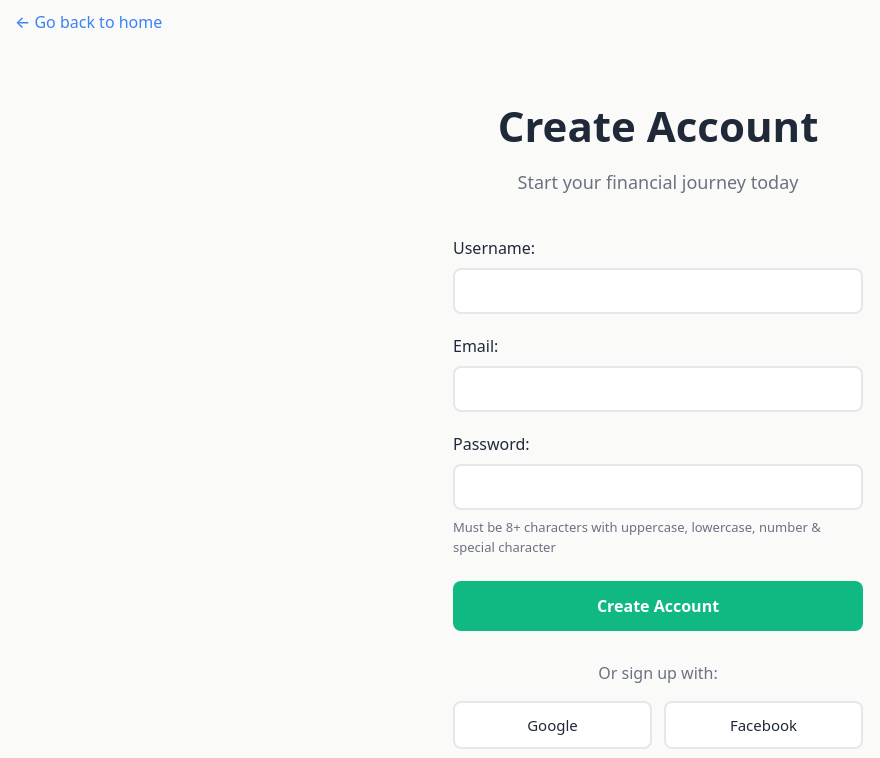
Test case: Register Page › shows error if password is too short
Type "test" into the field labelled "Username:". click: {"x": 658, "y": 291}
box: 453,268 -> 863,314
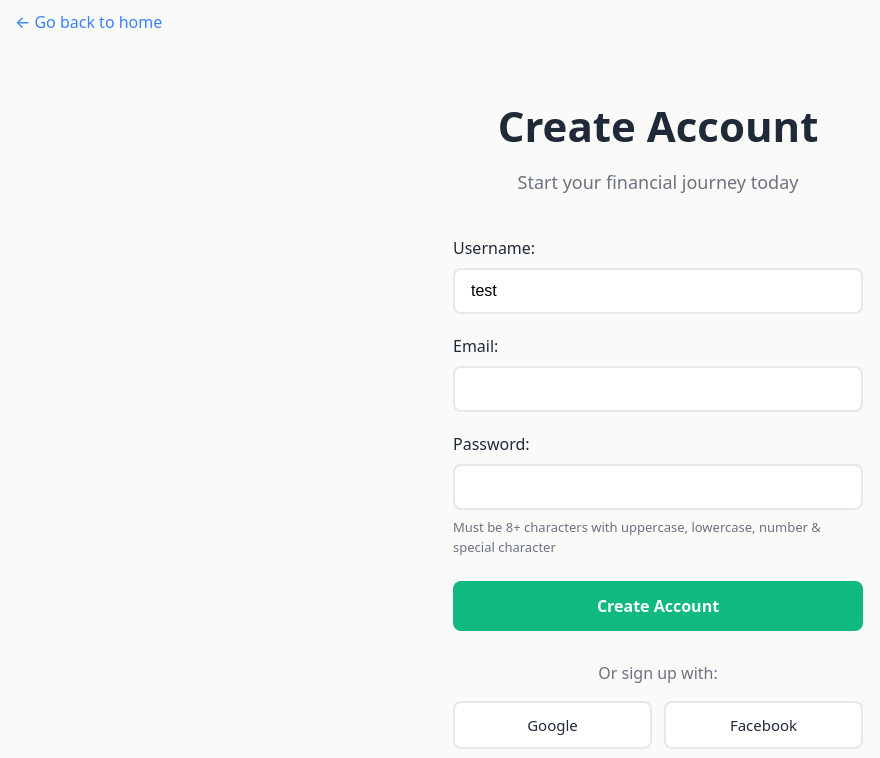
Type "test@example.com" into the field labelled "Email:". click: {"x": 658, "y": 389}
box: 453,366 -> 863,412
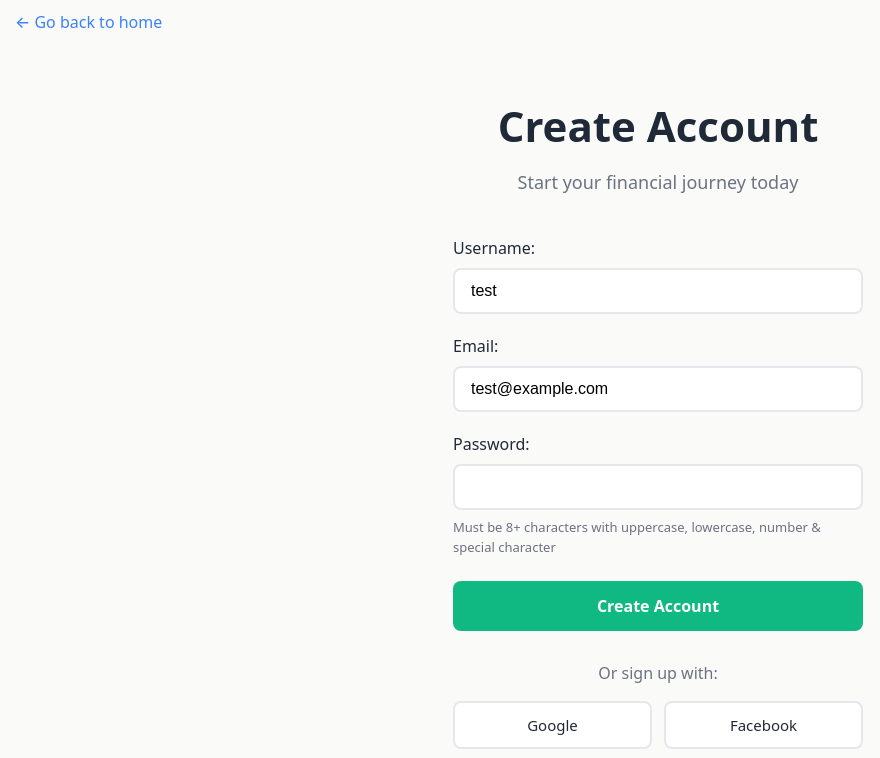
Type "123" into the password field labelled "Password:". click: {"x": 658, "y": 487}
box: 453,464 -> 863,510
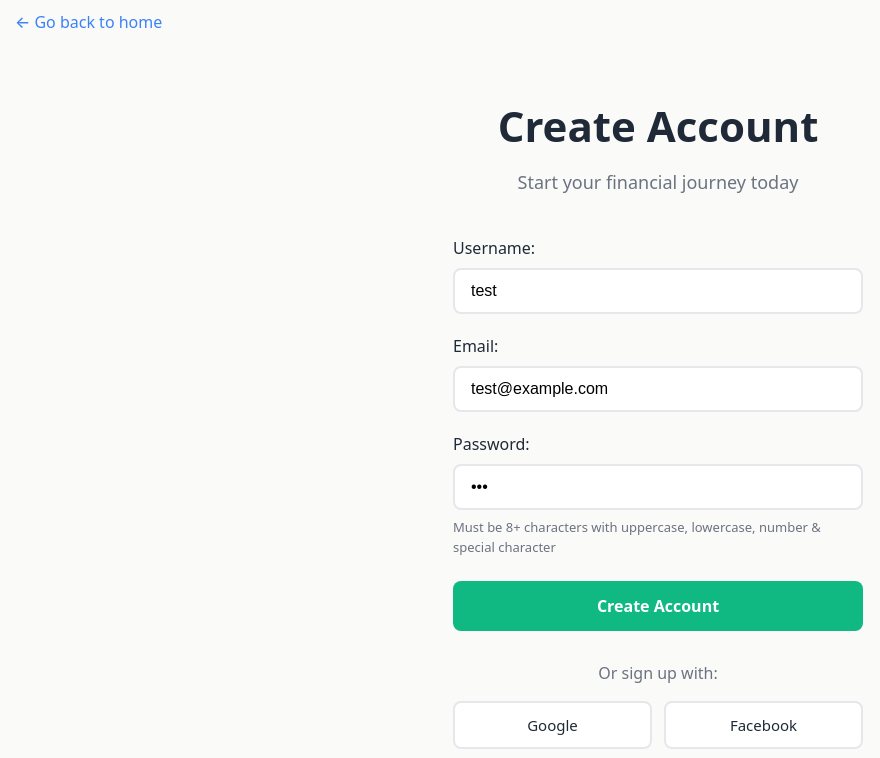
Click the button "Create Account". click: {"x": 658, "y": 606}
box: 453,581 -> 863,631
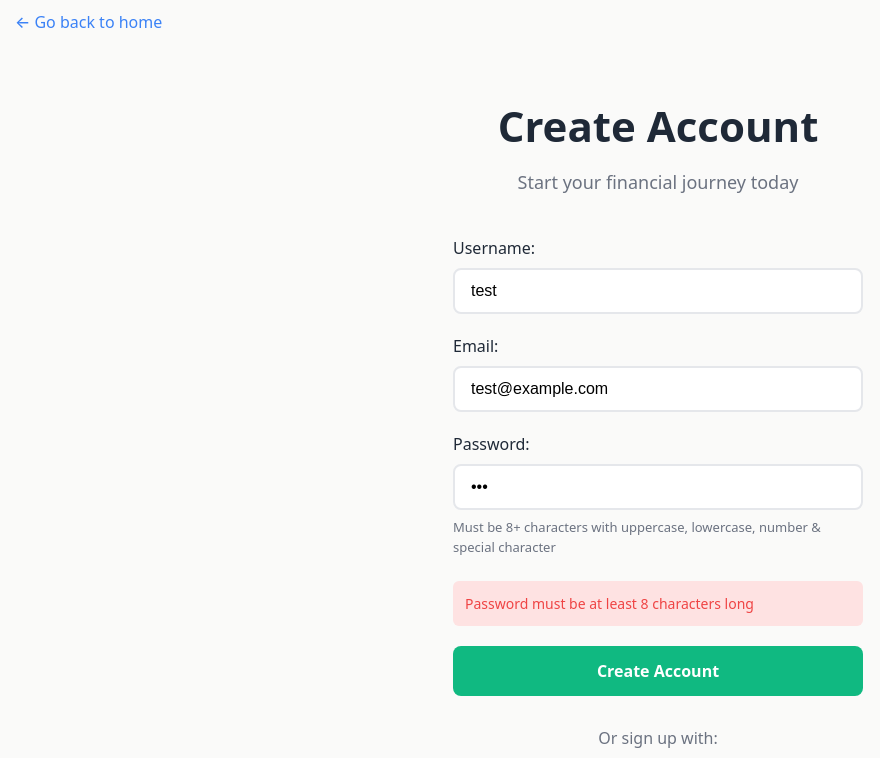
Expected: the text "Password must be at least 8 characters long" is shown, 453,581 -> 863,626
